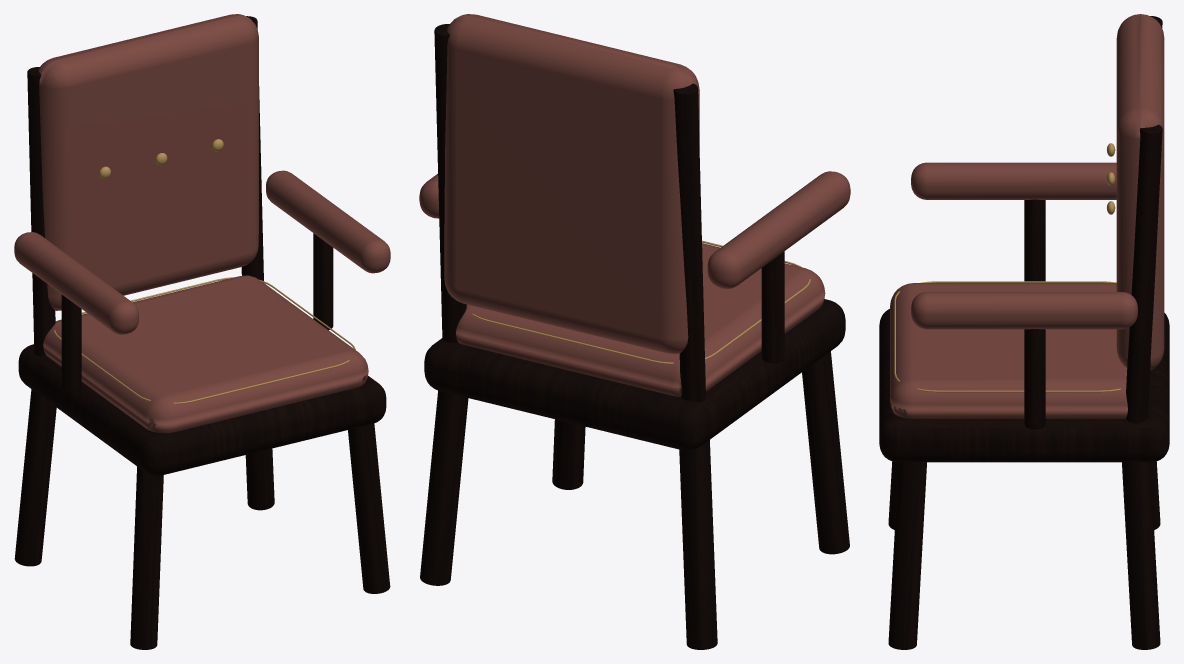
Rendered from chair.glb.
3 renders of one model, left to right at view 1: azimuth 30°, elevation 25°; view 2: azimuth 150°, elevation 25°; view 3: azimuth 270°, elevation 25°, orthographic. The views are drawn at different scales.
Parts seen in each view (by area): view 1: victorian-study chair; view 2: victorian-study chair; view 3: victorian-study chair.
Boxes of the visible parts, x1,y1,x2,y2 form: victorian-study chair: (14,14,390,649); victorian-study chair: (419,14,850,649); victorian-study chair: (879,14,1169,649).
Bounding box in the file's own units: 0.645 × 1.1 × 0.55.
3 materials, 1 textured.
